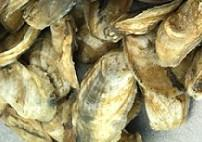3: (4, 0, 32, 21), (0, 0, 9, 14)
Oyster-Closed: (123, 35, 184, 98), (0, 101, 53, 142), (41, 91, 77, 142), (119, 130, 142, 142)
Oyster-Open: (71, 51, 138, 142), (0, 62, 56, 122), (155, 0, 202, 69), (145, 60, 188, 131), (28, 29, 70, 101), (115, 1, 180, 34), (73, 25, 124, 62), (89, 0, 132, 42), (23, 0, 80, 29), (58, 20, 80, 89), (185, 51, 202, 98), (0, 10, 23, 33)
